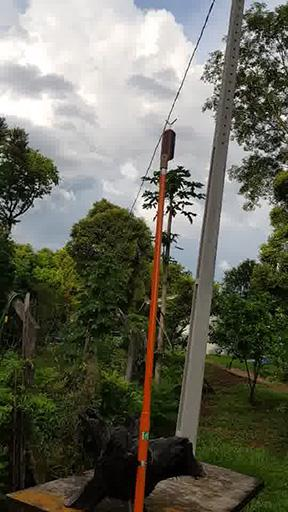Detector_Tensao_Contato: (159, 117, 178, 161)
Vara_Manobra: (133, 160, 167, 512)
